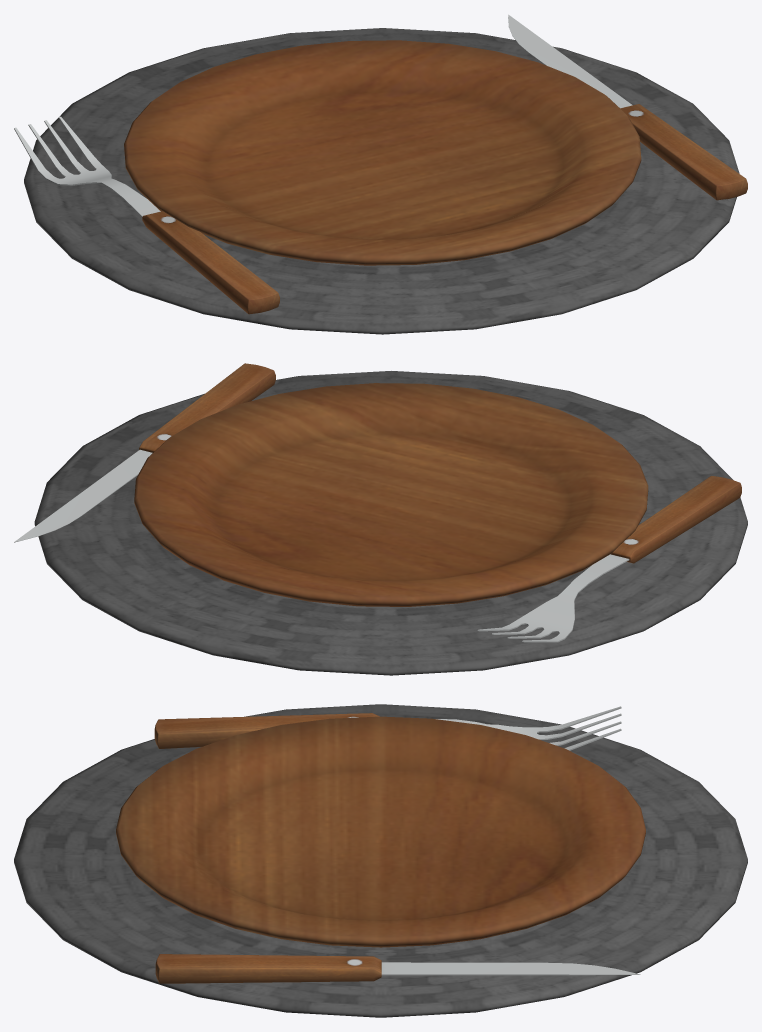
Rendered from GardenTableWear01_22.FBX.
3 views of the same model, one above another, from view 1: azimuth 30°, elevation 25°; view 2: azimuth 150°, elevation 25°; view 3: azimuth 270°, elevation 25° (orthographic). The views are drawn at different scales.
Visible parts, largest first — view 1: GardenTableWear01_22; view 2: GardenTableWear01_22; view 3: GardenTableWear01_22.
Boxes of the visible parts, x1,y1,x2,y2 form: GardenTableWear01_22: (14,14,747,334); GardenTableWear01_22: (14,363,747,675); GardenTableWear01_22: (14,704,747,1017).
Size of what is drawn, in the model's own units: 0.4571 by 0.0268 by 0.4571.
